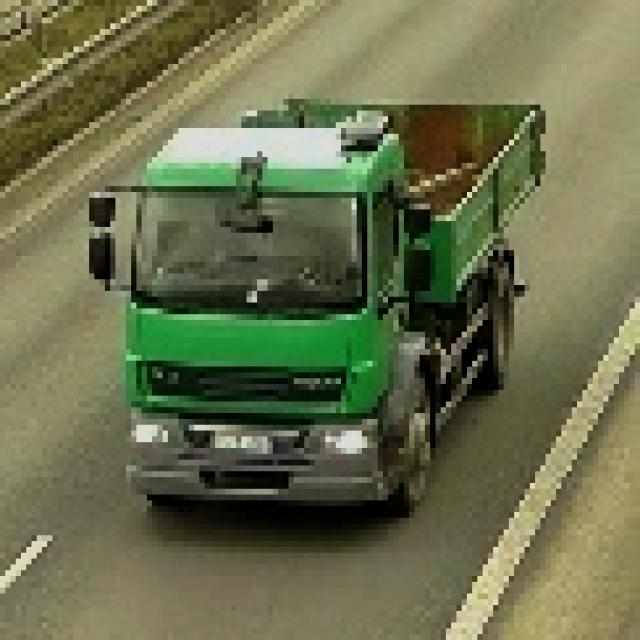truck: (85, 82, 541, 513)
